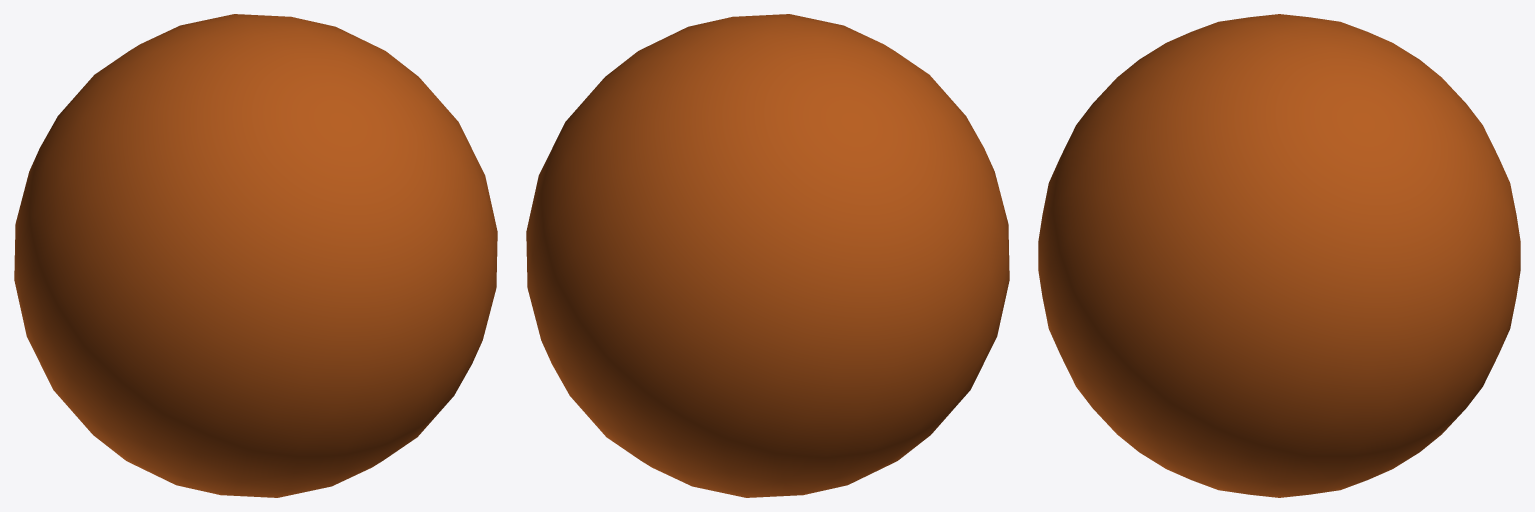
Rendered from GeoSphere.obj.
3 renders of one model, left to right at view 1: azimuth 30°, elevation 25°; view 2: azimuth 150°, elevation 25°; view 3: azimuth 270°, elevation 25°, orthographic.
Parts seen in each view (by area): view 1: GeoSphere001; view 2: GeoSphere001; view 3: GeoSphere001.
Part boxes in pixels (bbox=[...]): GeoSphere001: bbox=[14, 14, 497, 497]; GeoSphere001: bbox=[526, 14, 1009, 497]; GeoSphere001: bbox=[1038, 14, 1520, 497].
Bounding box in the file's own units: 24.63 × 24.74 × 24.59.
